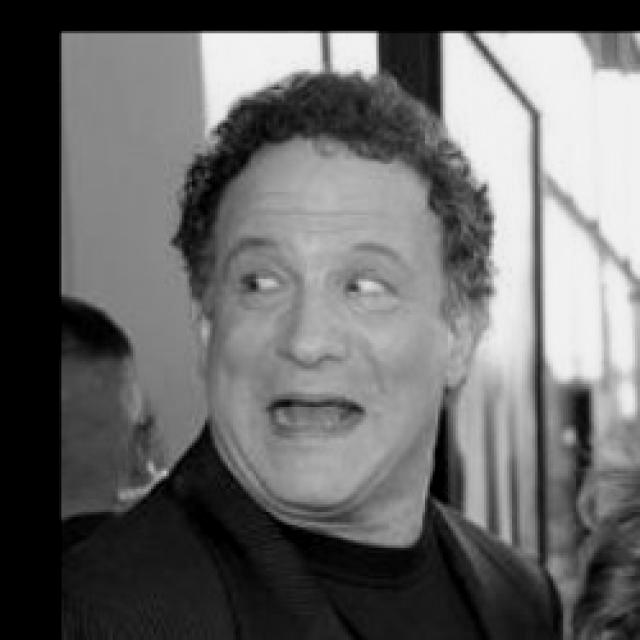real: (192, 112, 487, 552), (221, 248, 418, 314)
